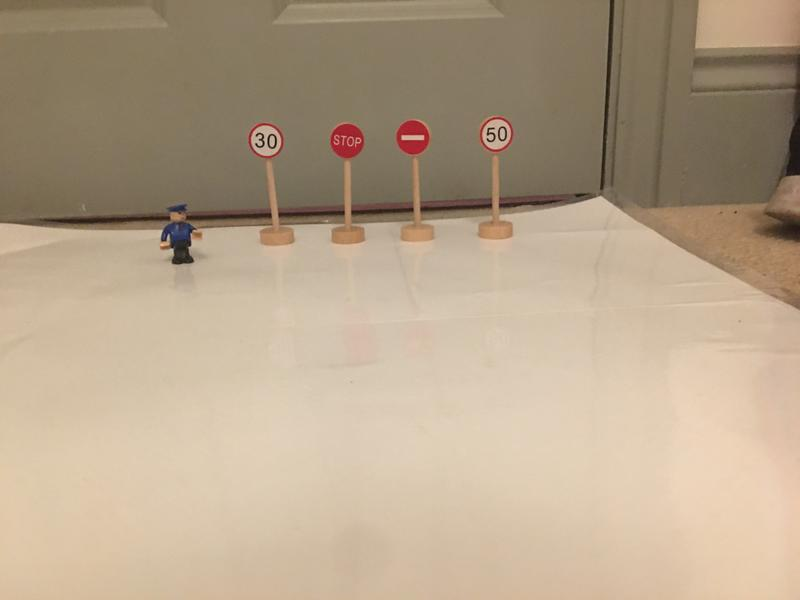Traffic_Sign_30: (249, 124, 284, 158)
Traffic_Sign_50: (480, 118, 513, 150)
Traffic_Sign_No_Entry: (396, 120, 430, 155)
Traffic_Sign_Stop: (330, 122, 365, 159)
person: (157, 205, 203, 266)
